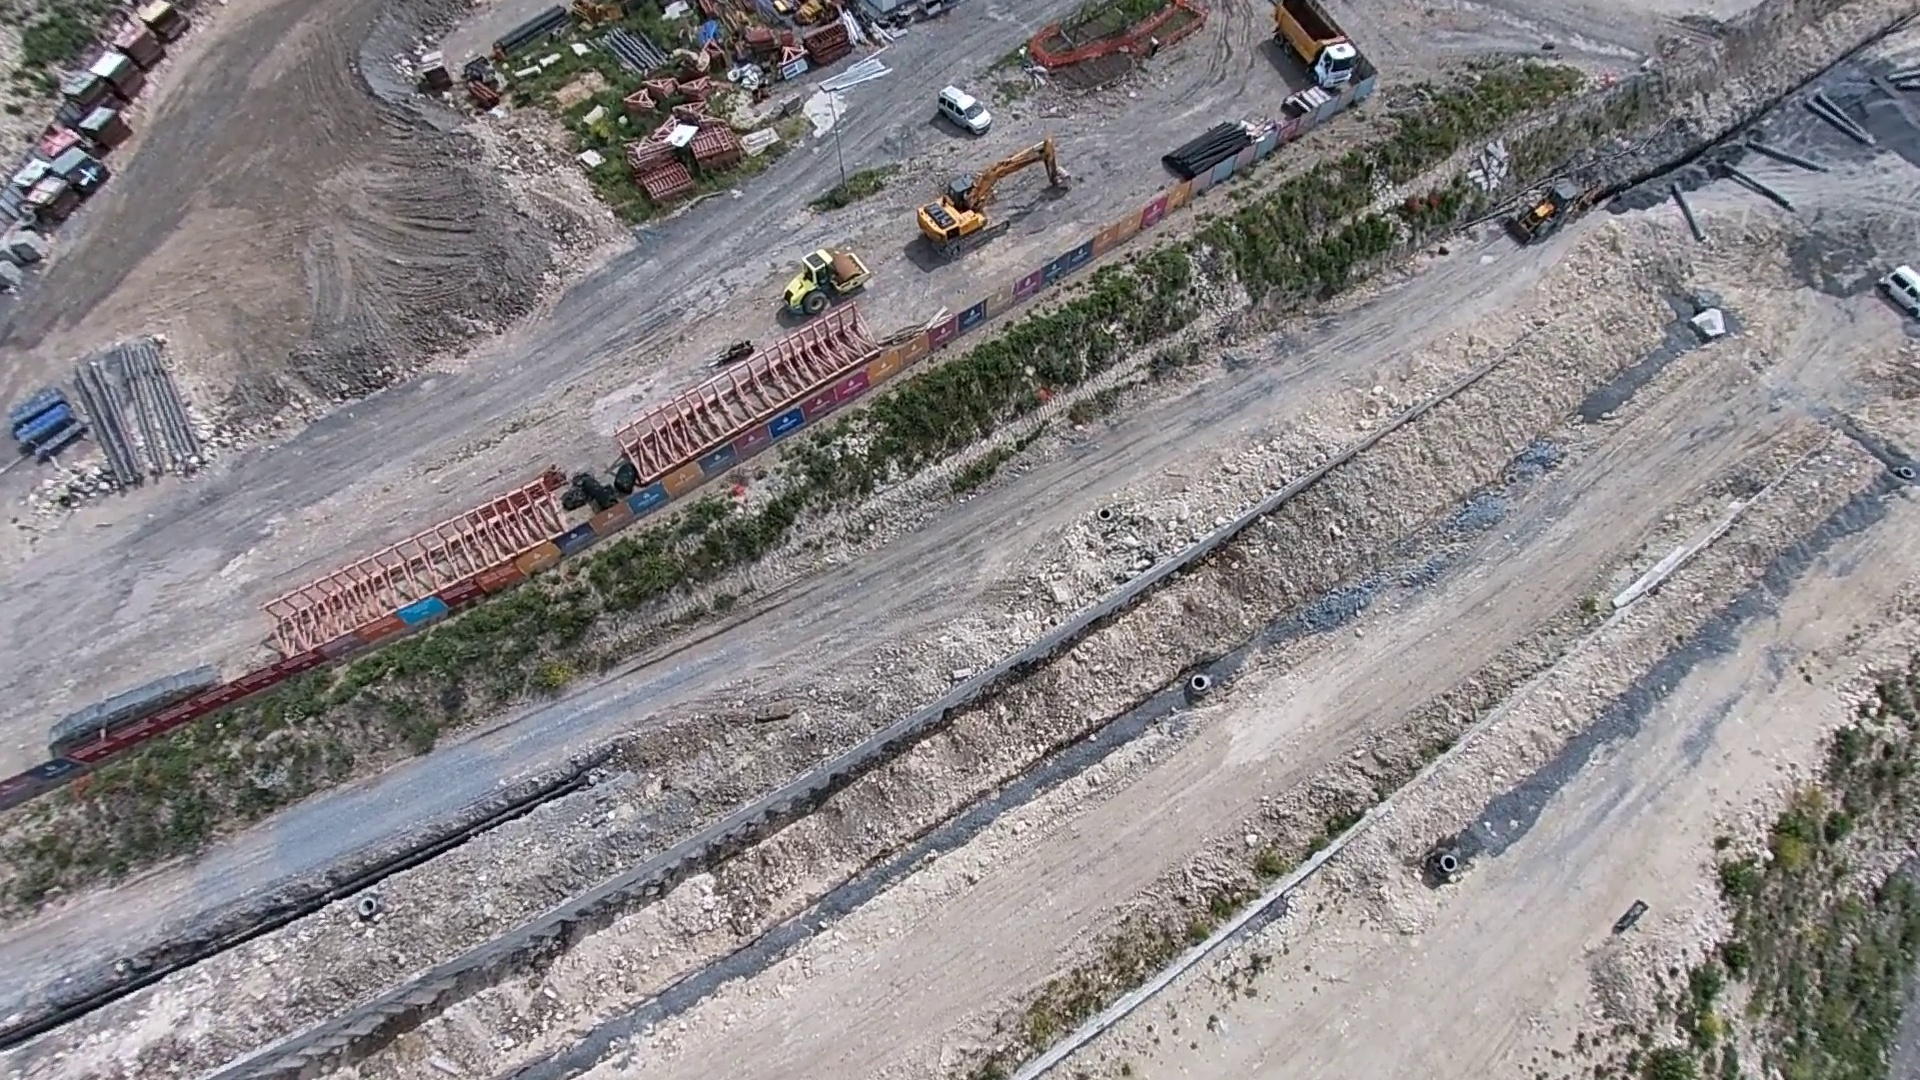araba: (932, 79, 1004, 138), (1879, 249, 1920, 315)
ismakinesi: (907, 137, 1084, 264), (1501, 170, 1590, 243)
kamyon: (1250, 1, 1391, 91)
traktor: (771, 240, 868, 320)
